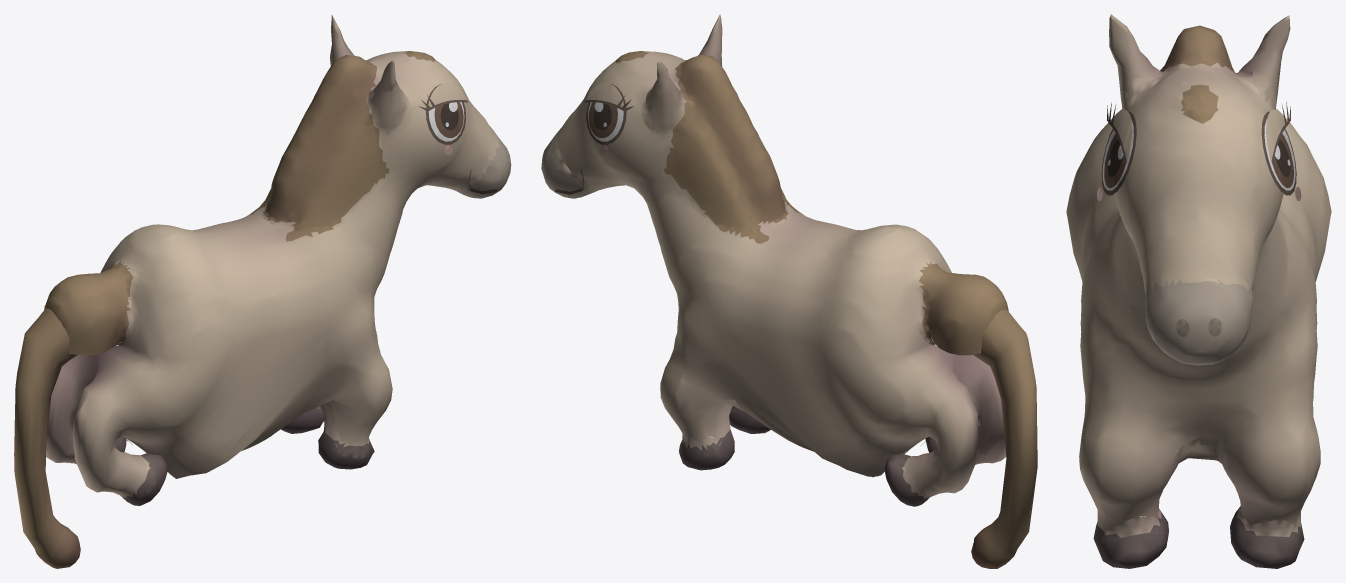
The model's file is pony.glb.
3 views of the same model, side by side, from view 1: azimuth 30°, elevation 25°; view 2: azimuth 150°, elevation 25°; view 3: azimuth 270°, elevation 25° (orthographic). The views are drawn at different scales.
Parts seen in each view (by area): view 1: pony; view 2: pony; view 3: pony.
Boxes of the visible parts, bbox=[...] form: pony: bbox=[14, 15, 511, 568]; pony: bbox=[541, 14, 1037, 568]; pony: bbox=[1066, 14, 1331, 568].
Size of the model in its own units: 0.85 by 0.7601 by 0.2797.
